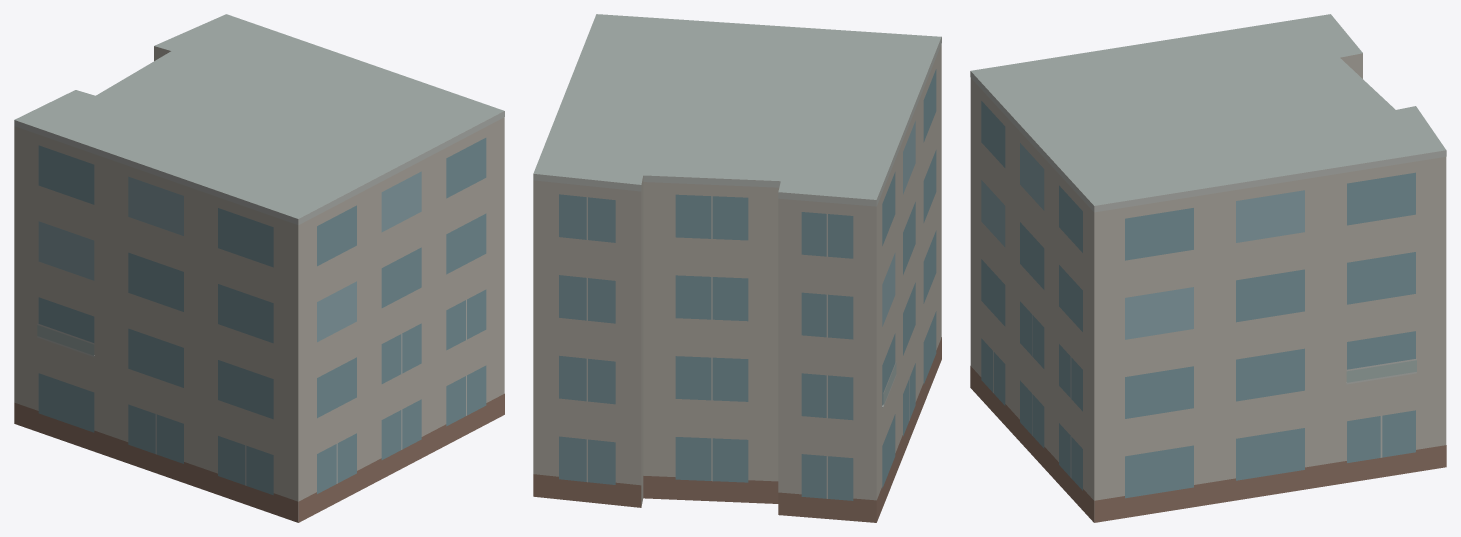
File: survey-upis-32849000.glb
The picture shows the model from 3 angles, left to right: view 1: azimuth 30°, elevation 25°; view 2: azimuth 150°, elevation 25°; view 3: azimuth 270°, elevation 25°; orthographic projection. The views are drawn at different scales.
Visible parts, largest first — view 1: survey-upis-32849000.tmp; view 2: survey-upis-32849000.tmp; view 3: survey-upis-32849000.tmp.
Part boxes in pixels (x1,y1,x2,y2): survey-upis-32849000.tmp: [14, 14, 504, 522]; survey-upis-32849000.tmp: [533, 14, 941, 522]; survey-upis-32849000.tmp: [970, 14, 1446, 522].
Bounding box in the file's own units: 15.6 × 12 × 16.34.
